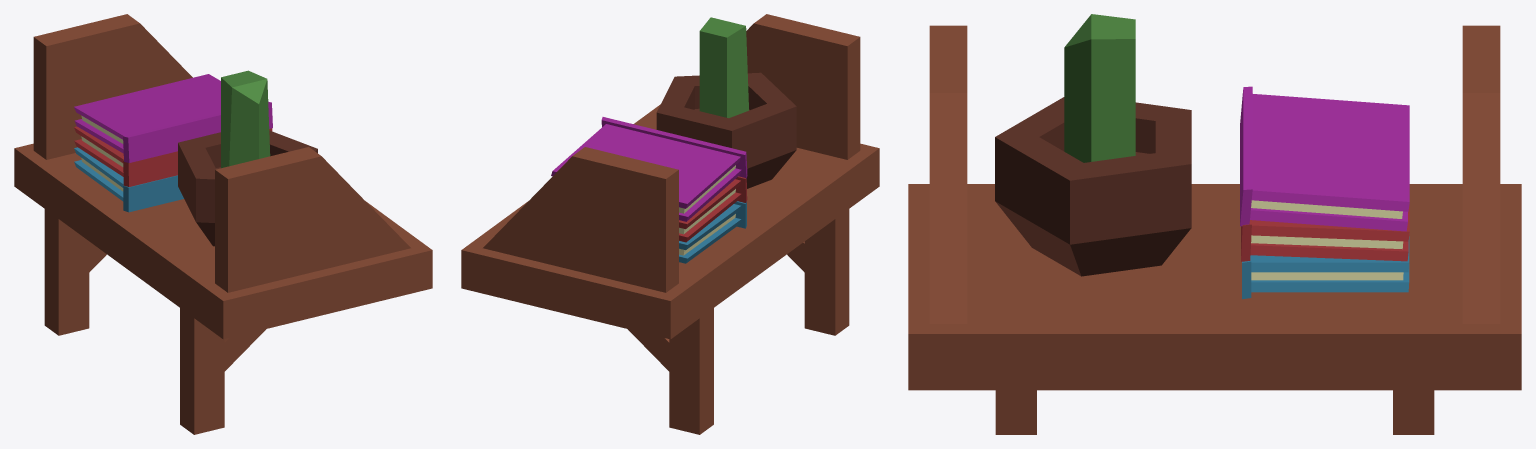
Rendered from polka_1.fbx.
The picture shows the model from 3 angles, left to right: view 1: azimuth 30°, elevation 25°; view 2: azimuth 150°, elevation 25°; view 3: azimuth 270°, elevation 25°; orthographic projection. The views are drawn at different scales.
Parts seen in each view (by area): view 1: Cube.021; view 2: Cube.021; view 3: Cube.021.
Boxes of the visible parts, x1,y1,x2,y2 form: Cube.021: (14,14,432,434); Cube.021: (461,14,879,434); Cube.021: (908,14,1521,434).
Bounding box in the file's own units: 356 × 498 × 616.
